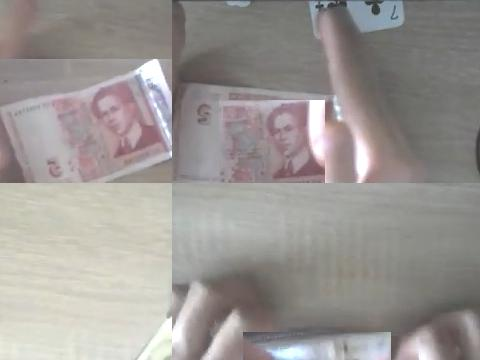20leva: (260, 332, 391, 360)
5leva: (0, 59, 172, 183), (172, 80, 333, 183), (172, 81, 332, 183), (219, 100, 325, 183)
